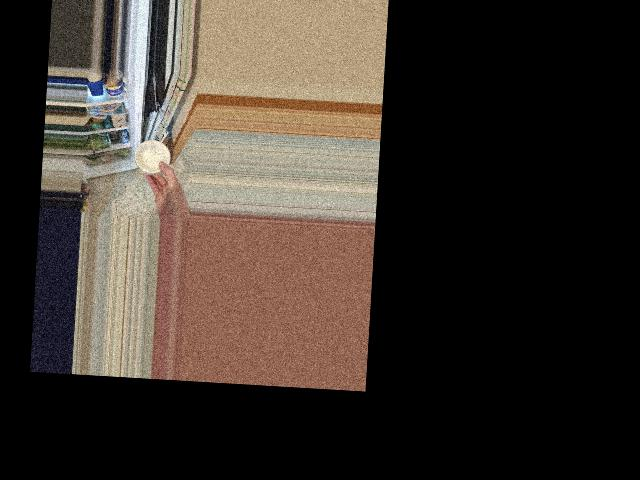cotage: (133, 136, 170, 174)
